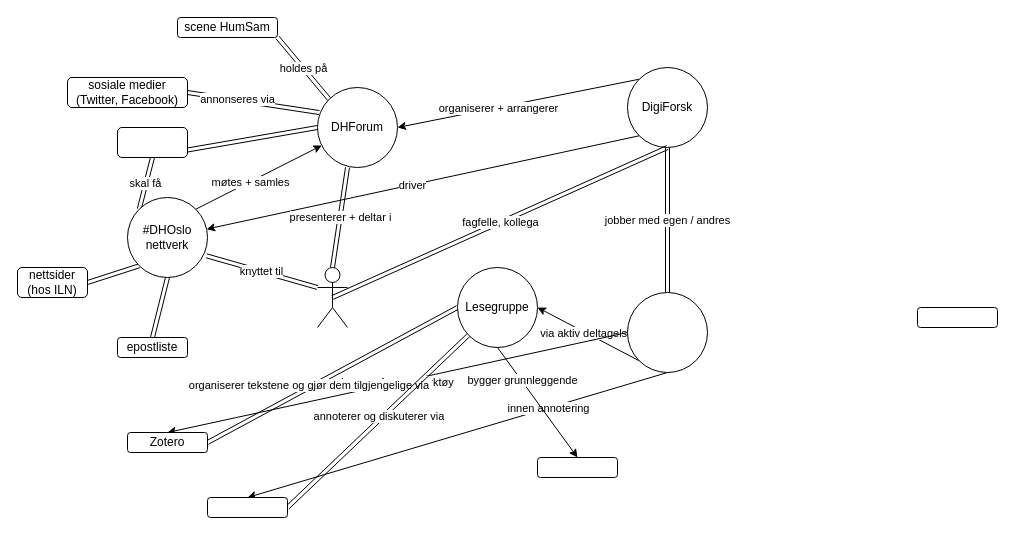
Image size: 1015x535. Some labels were removed from this diagram. Here are the shapes that lost their labels. From the top down, the centre of each, then its label:
At point 152,142: "fysisk sted i biblioteket".
At point 332,297: "Forskere".
At point 667,332: "Kompetanse-heving".
At point 577,467: "Kunnskap".
At point 247,507: "Hypothes.is".
